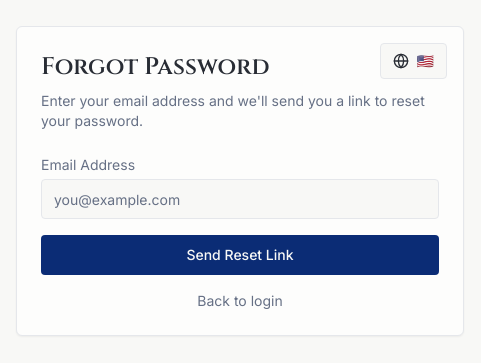
it: ForgotPassword page › clears error when user starts typing
The width and height of the screenshot is (481, 363).
Later steps or results of the test are not shown.
Type "test@example.com" into the field labelled "Email Address" at point(240, 199), box [41,179,439,219]
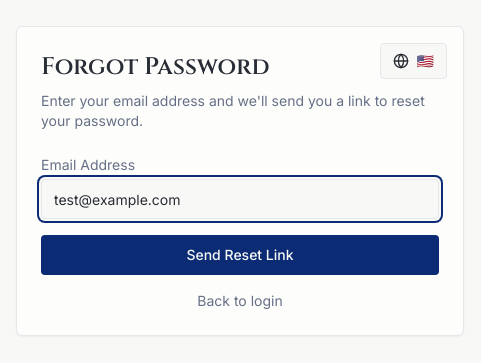
Click the button "Send Reset Link" at point(240, 255), box [41,235,439,275]
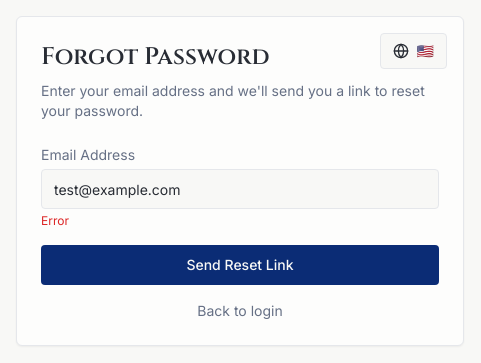
Expected: the message "Error" is shown, [41,213,69,228]
